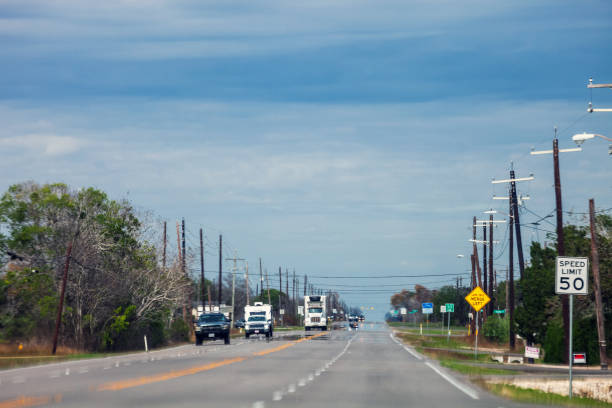SpeedLimitSign: (553, 254, 589, 295)
